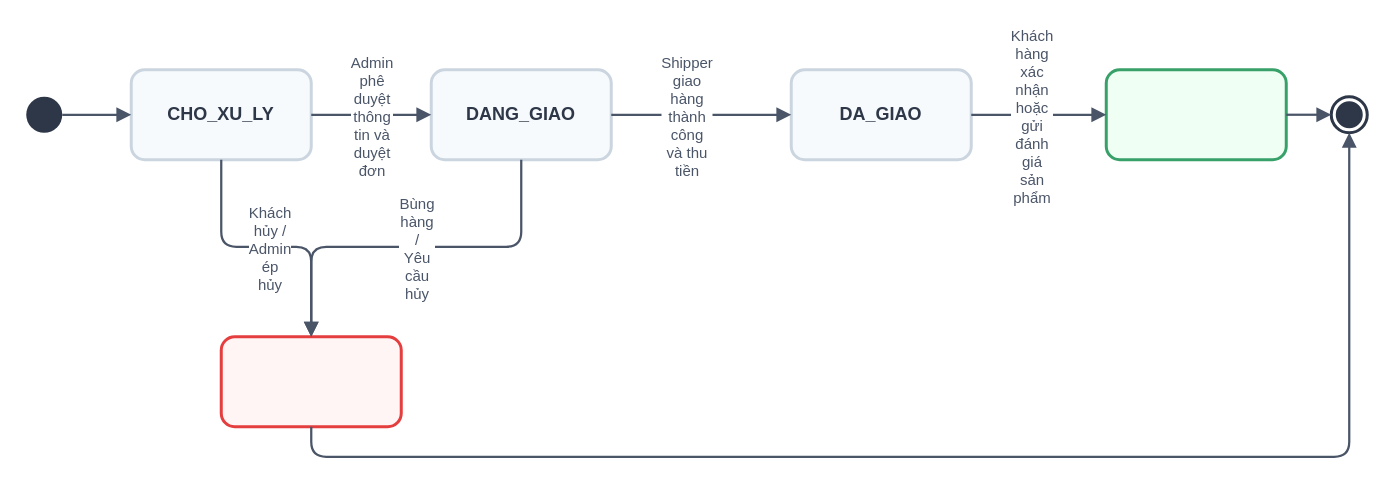
Image size: 1394x497. Some labels were removed from this diagram. The centre of each missing label's shape, as x and y in pixels:
"HOAN_THANH" belongs at (x=1195, y=114).
"HUY_DON" belongs at (x=310, y=381).
